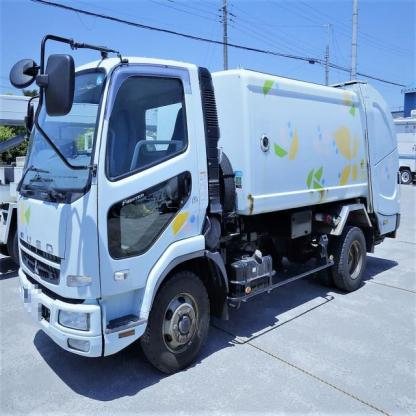truck: (1, 55, 401, 367)
